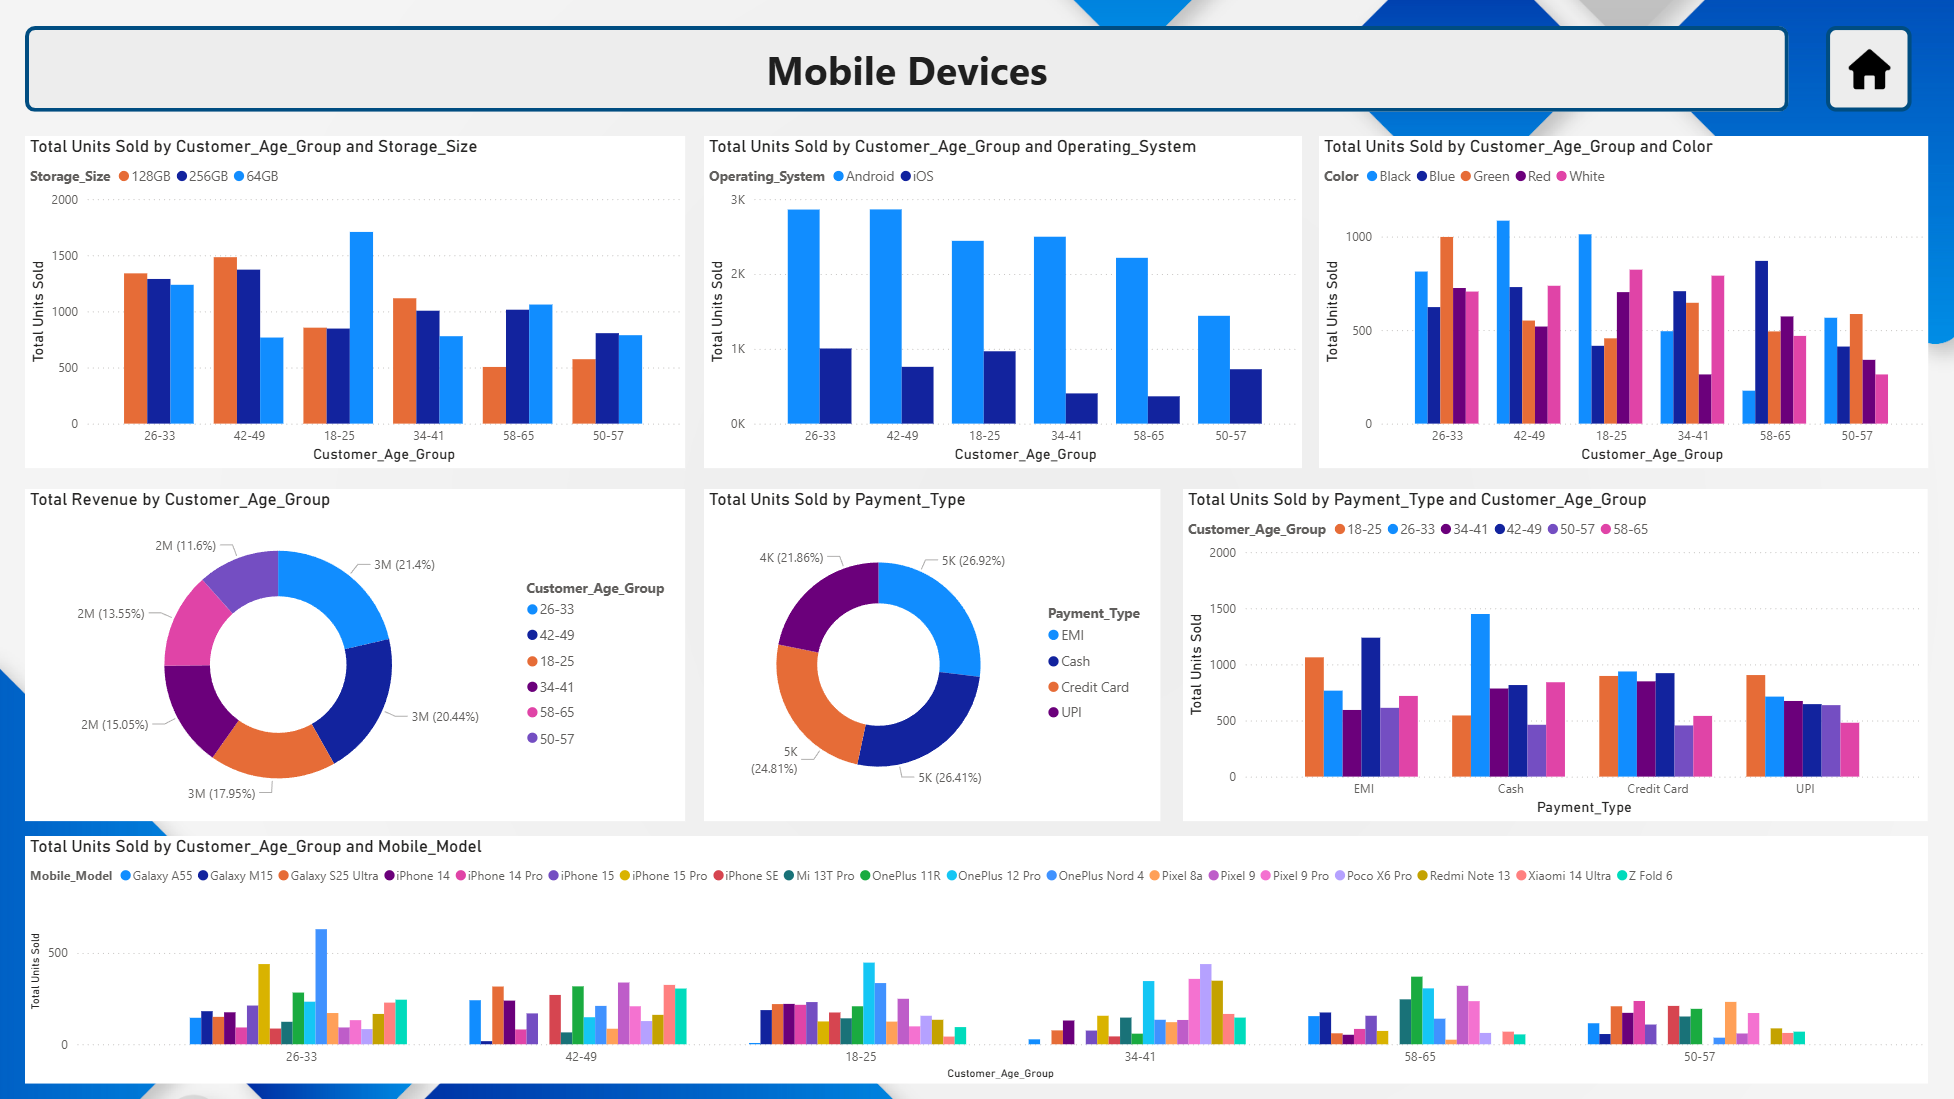

What the dashboard file says about the page in this screenshot:
{"tool":"powerbi","page":{"name":"Mobile Devices","canvas":[1920,1080],"ordinal":2},"visuals":[{"type":"shape","box":[24.1,25.2,1731.4,84.4],"z":0},{"type":"image","box":[1792.8,25.2,84.4,84.4],"z":1000},{"type":"clusteredColumnChart","fields":{"Category":["Mobile_Sales.Customer_Age_Group"],"Y":["Mobile_Sales.Total Units Sold"],"Series":["Mobile_Sales.Storage_Size"]},"box":[24.1,133.8,648,325.7],"z":2000},{"type":"clusteredColumnChart","fields":{"Category":["Mobile_Sales.Customer_Age_Group"],"Y":["Mobile_Sales.Total Units Sold"],"Series":["Mobile_Sales.Color"]},"box":[1295,133.8,597.6,325.7],"z":3000},{"type":"clusteredColumnChart","fields":{"Category":["Mobile_Sales.Customer_Age_Group"],"Y":["Mobile_Sales.Total Units Sold"],"Series":["Mobile_Sales.Operating_System"]},"box":[690.8,133.8,586.6,325.7],"z":4000},{"type":"donutChart","fields":{"Y":["Mobile_Sales.Total Revenue"],"Category":["Mobile_Sales.Customer_Age_Group"]},"box":[24.1,480.3,648,325.7],"z":5000},{"type":"donutChart","fields":{"Y":["Mobile_Sales.Total Units Sold"],"Category":["Mobile_Sales.Payment_Type"]},"box":[690.8,480.3,448.5,325.7],"z":6000},{"type":"clusteredColumnChart","fields":{"Category":["Mobile_Sales.Payment_Type"],"Y":["Mobile_Sales.Total Units Sold"],"Series":["Mobile_Sales.Customer_Age_Group"]},"box":[1161.2,480.3,731.4,325.7],"z":7000},{"type":"clusteredColumnChart","fields":{"Y":["Mobile_Sales.Total Units Sold"],"Series":["Mobile_Sales.Mobile_Model"],"Category":["Mobile_Sales.Customer_Age_Group"]},"box":[24.1,820.2,1868.5,243.4],"z":8000}]}

Visuals, with their boxes in screenshot pixels (x1, y1, x2, y2), scaled from the page's 1920x1080 canvas onto the 1954x1099 screenshot:
shape: bbox(25, 26, 1787, 112)
image: bbox(1825, 26, 1910, 112)
clusteredColumnChart - Mobile_Sales.Customer_Age_Group x Mobile_Sales.Total Units Sold: bbox(25, 136, 684, 468)
clusteredColumnChart - Mobile_Sales.Customer_Age_Group x Mobile_Sales.Total Units Sold: bbox(1318, 136, 1926, 468)
clusteredColumnChart - Mobile_Sales.Customer_Age_Group x Mobile_Sales.Total Units Sold: bbox(703, 136, 1300, 468)
donutChart - Mobile_Sales.Total Revenue x Mobile_Sales.Customer_Age_Group: bbox(25, 489, 684, 820)
donutChart - Mobile_Sales.Total Units Sold x Mobile_Sales.Payment_Type: bbox(703, 489, 1159, 820)
clusteredColumnChart - Mobile_Sales.Payment_Type x Mobile_Sales.Total Units Sold: bbox(1182, 489, 1926, 820)
clusteredColumnChart - Mobile_Sales.Total Units Sold x Mobile_Sales.Mobile_Model: bbox(25, 835, 1926, 1082)
